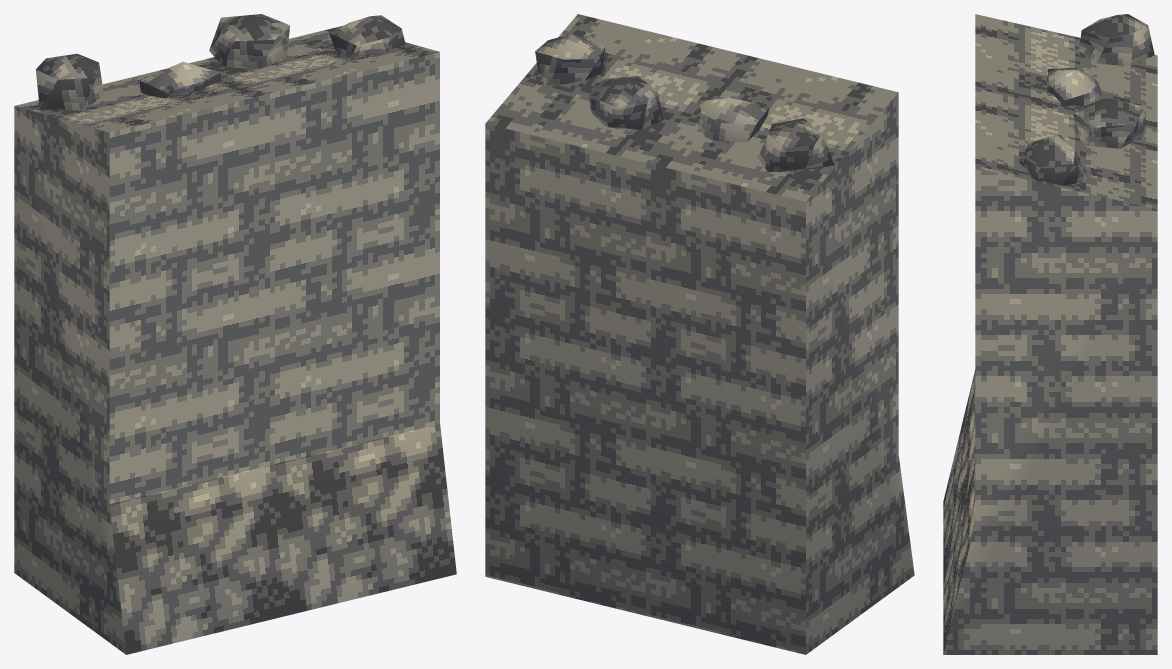
Rendered from cst.curtain__broken.glb.
3 renders of one model, left to right at view 1: azimuth 30°, elevation 25°; view 2: azimuth 150°, elevation 25°; view 3: azimuth 270°, elevation 25°, orthographic. The views are drawn at different scales.
Visible parts, largest first — view 1: kit_wall, kit_top; view 2: kit_wall, kit_top; view 3: kit_wall, kit_top.
Boxes of the visible parts, <box> form: kit_wall: <box>14,26,456,654</box>; kit_top: <box>35,14,405,110</box>; kit_wall: <box>485,14,914,654</box>; kit_top: <box>535,34,834,172</box>; kit_wall: <box>943,14,1157,654</box>; kit_top: <box>1019,14,1154,185</box>.
Bounding box in the file's own units: 4.03 × 6.08 × 2.35.
3 materials, 3 textured.
